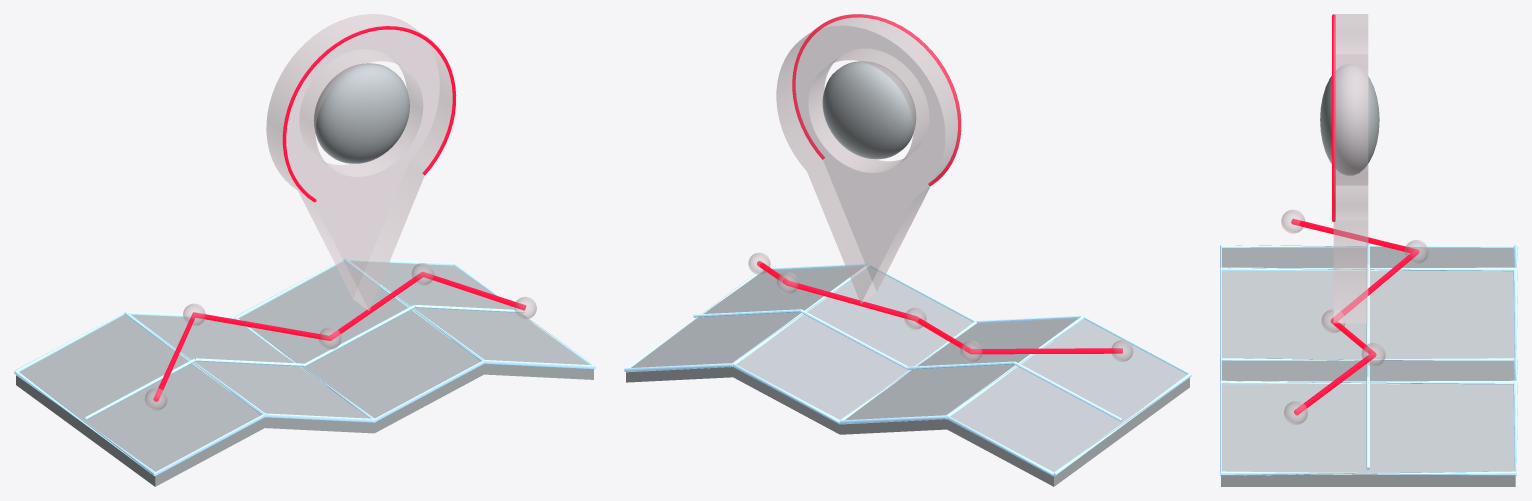
Rendered from 07-geoanalytics.glb.
3 renders of one model, left to right at view 1: azimuth 30°, elevation 25°; view 2: azimuth 150°, elevation 25°; view 3: azimuth 270°, elevation 25°, orthographic. The views are drawn at different scales.
Visible parts, largest first — view 1: BC thin clear technical glass, BC subtle ruby technical glass, BC cool glass edge, BC ruby signal edge; view 2: BC thin clear technical glass, BC subtle ruby technical glass, BC cool glass edge, BC ruby signal edge; view 3: BC thin clear technical glass, BC subtle ruby technical glass, BC cool glass edge, BC ruby signal edge.
Boxes of the visible parts, <box> form: BC thin clear technical glass: <box>16,63,593,486</box>; BC subtle ruby technical glass: <box>144,14,536,410</box>; BC cool glass edge: <box>14,258,595,476</box>; BC ruby signal edge: <box>153,26,526,401</box>; BC thin clear technical glass: <box>626,61,1189,486</box>; BC subtle ruby technical glass: <box>748,14,1133,362</box>; BC cool glass edge: <box>624,263,1191,476</box>; BC ruby signal edge: <box>757,14,1122,354</box>; BC thin clear technical glass: <box>1221,64,1515,486</box>; BC subtle ruby technical glass: <box>1281,14,1428,424</box>; BC cool glass edge: <box>1220,243,1517,475</box>; BC ruby signal edge: <box>1291,14,1419,415</box>.
Bounding box in the file's own units: 2.02 × 1.54 × 1.11.
